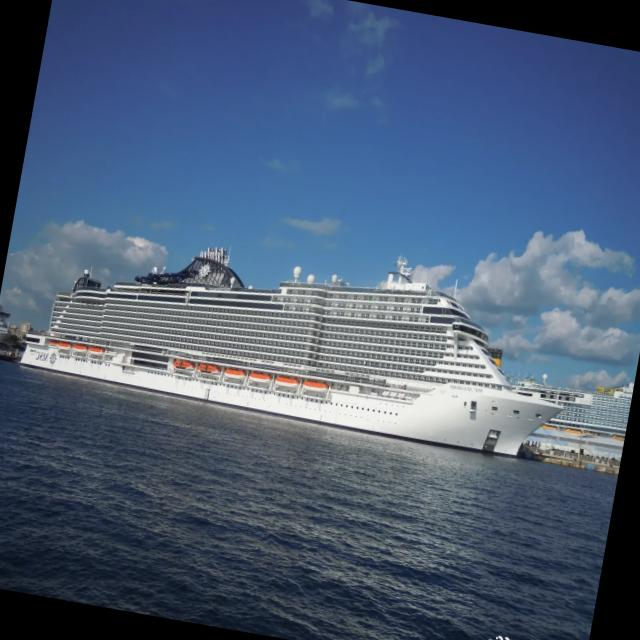Cruise: (20, 248, 561, 456)
